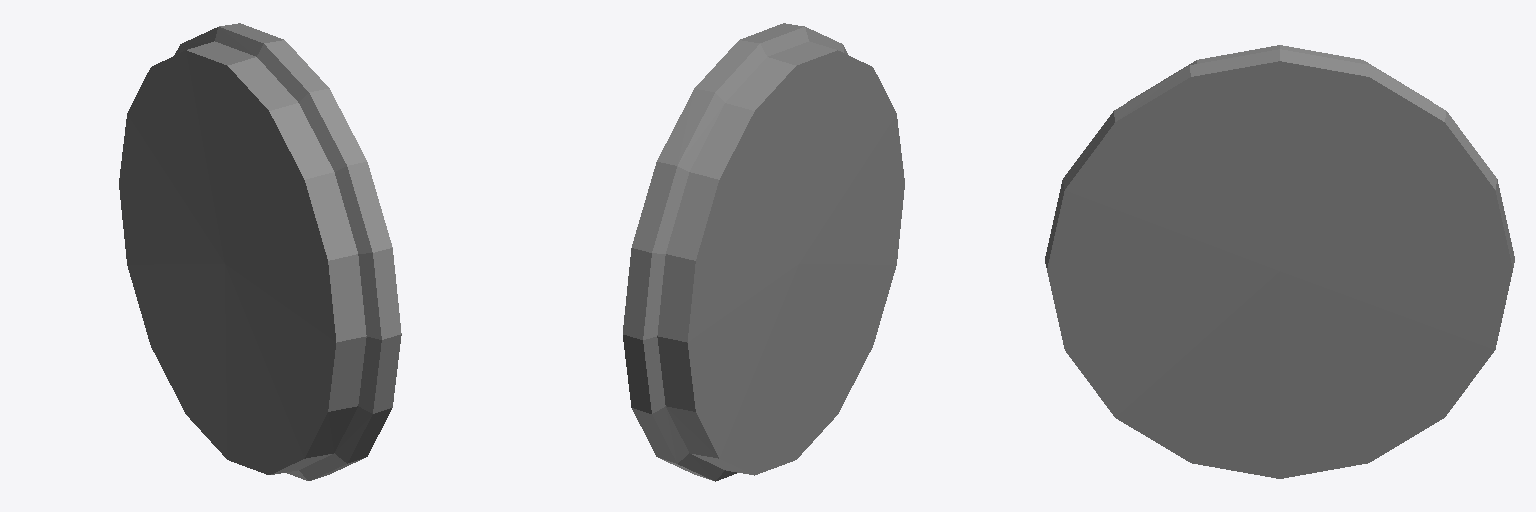
Rendered from RuedaDer8.obj.
3 renders of one model, left to right at view 1: azimuth 30°, elevation 25°; view 2: azimuth 150°, elevation 25°; view 3: azimuth 270°, elevation 25°, orthographic.
Visible parts, largest first — view 1: RuedaDer8; view 2: RuedaDer8; view 3: RuedaDer8.
Part boxes in pixels (x1,y1,x2,y2): RuedaDer8: (119,23,401,480); RuedaDer8: (623,23,904,481); RuedaDer8: (1045,45,1514,478).
Size of the model in its own units: 0.041 by 0.2641 by 0.2674.